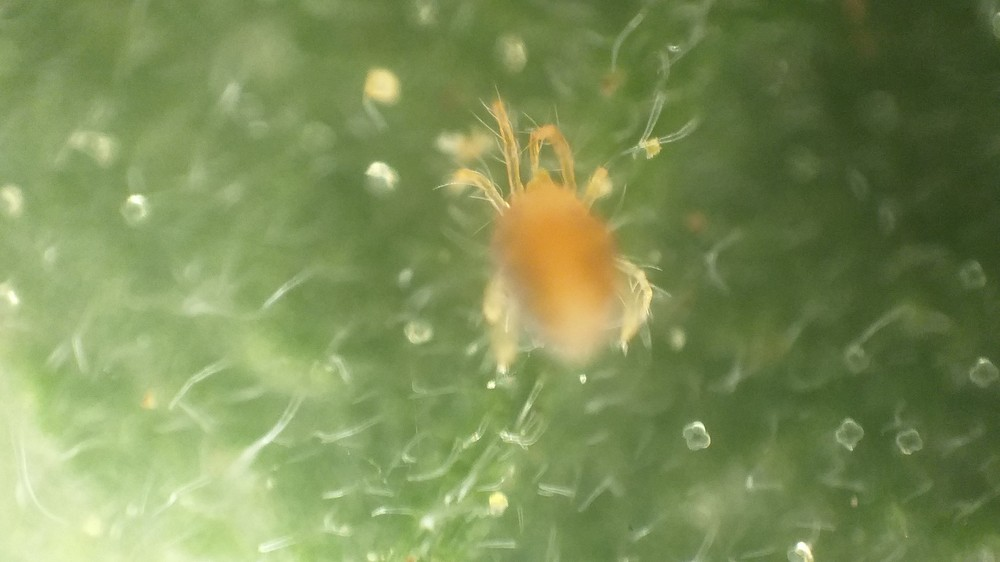Aracnido Rojo: (445, 93, 695, 387)
